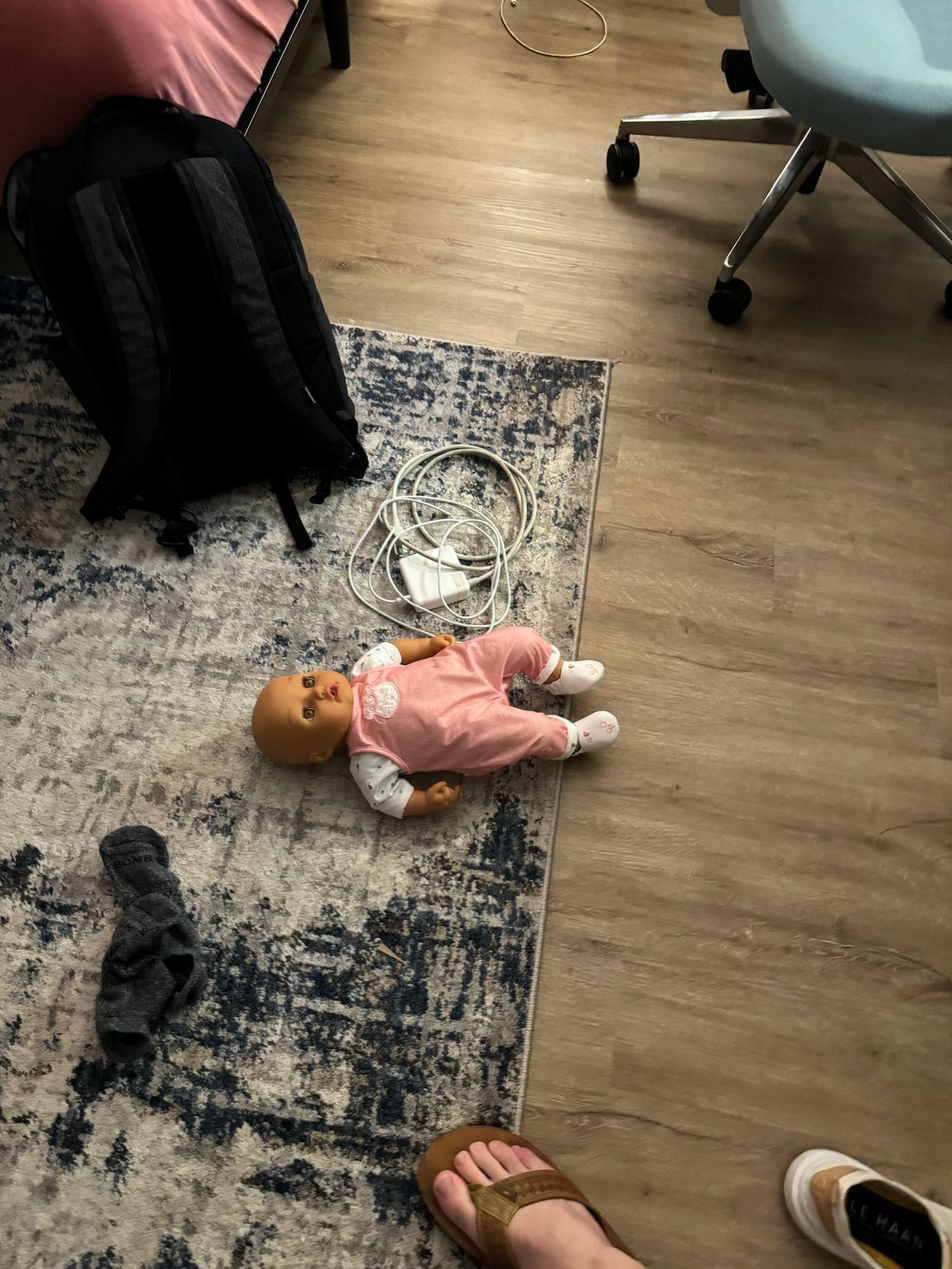baby: (231, 613, 634, 818)
